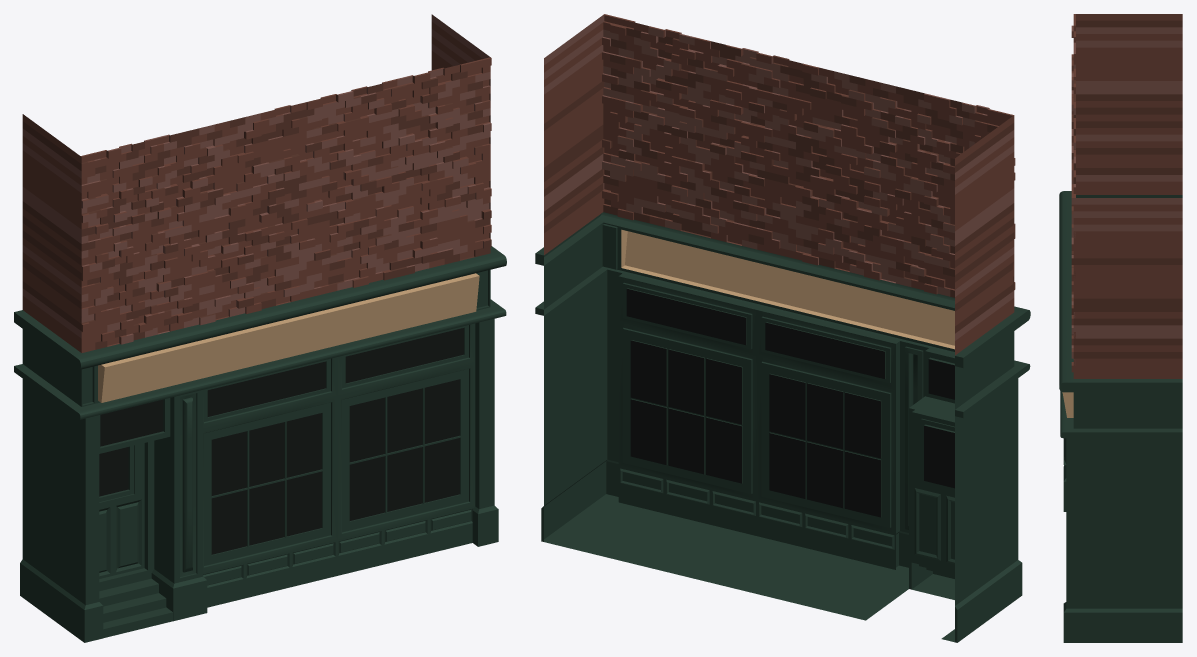
The model's file is ShopFront.fbx.
3 views of the same model, side by side, from view 1: azimuth 30°, elevation 25°; view 2: azimuth 150°, elevation 25°; view 3: azimuth 270°, elevation 25° (orthographic). The views are drawn at different scales.
Parts seen in each view (by area): view 1: ShopFront; view 2: ShopFront; view 3: ShopFront.
Part boxes in pixels (bbox=[...]): ShopFront: bbox=[14, 14, 506, 642]; ShopFront: bbox=[535, 14, 1030, 642]; ShopFront: bbox=[1059, 14, 1182, 642].
Size of the model in its own units: 833 by 900 by 226.
